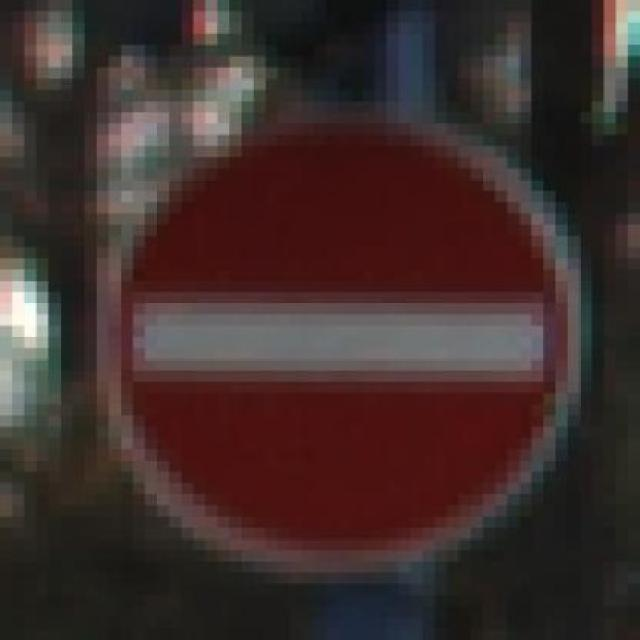B2: (110, 115, 586, 575)
